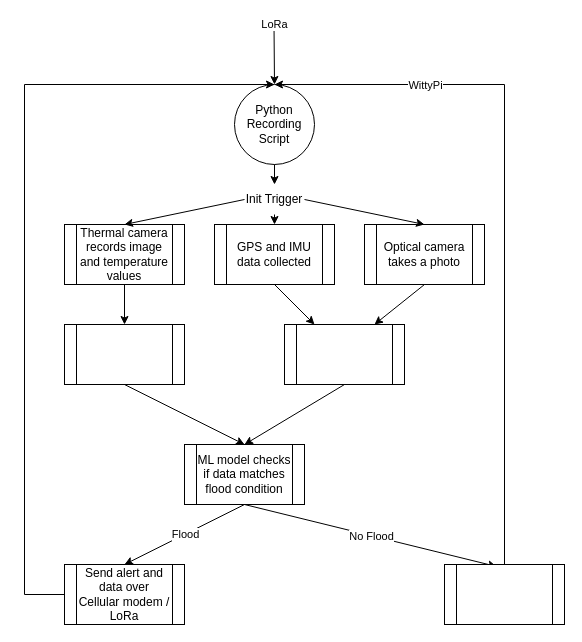
Image size: 582x642. Some labels were removed from this diagram. The shapes that lost their labels are listed below. From the top down, each one's box as (x1, y1, x2, y2) in pixels, then its label:
(64, 324, 184, 384): Per-pixel temperature change rate calculation
(284, 324, 404, 384): Embed GPS and IMU data into Image EXIF/XMP
(444, 564, 564, 624): Shutdown RPi and wake on timer
